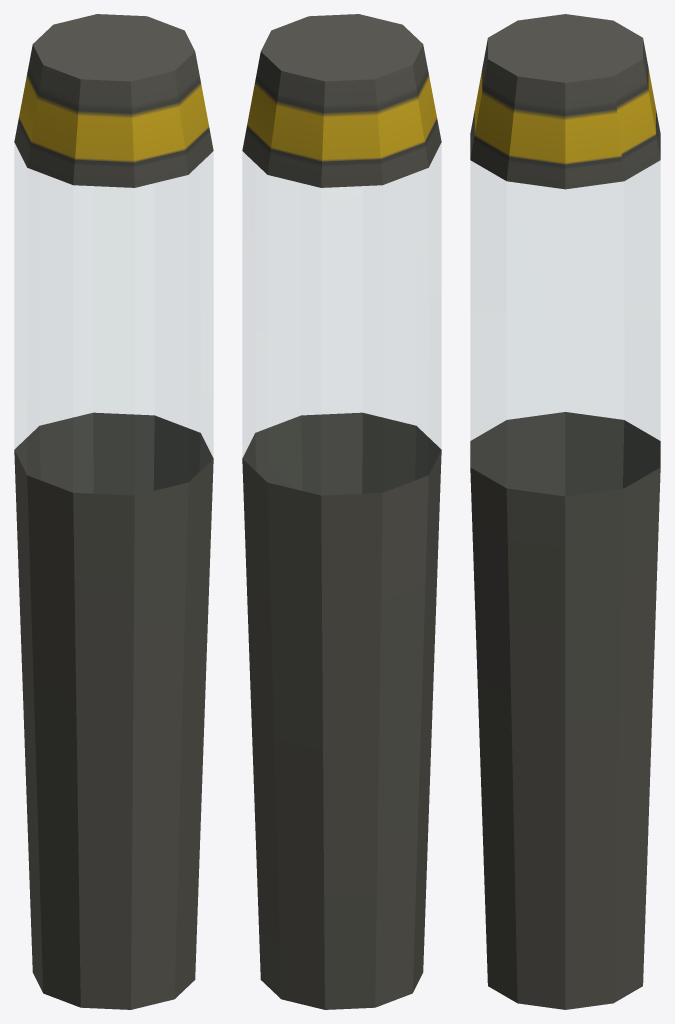
Rendered from pillar_light.fbx.
3 views of the same model, side by side, from view 1: azimuth 30°, elevation 25°; view 2: azimuth 150°, elevation 25°; view 3: azimuth 270°, elevation 25° (orthographic).
Visible parts, largest first — view 1: lamp; view 2: lamp; view 3: lamp.
Boxes of the visible parts, left/top/right/bottom form: lamp: left=14, top=14, right=213, bottom=1009; lamp: left=242, top=14, right=441, bottom=1009; lamp: left=470, top=14, right=660, bottom=1009.
Size of the model in its own units: 0.6596 by 3.37 by 0.6273.
Materials: 2 (1 with a texture image).
